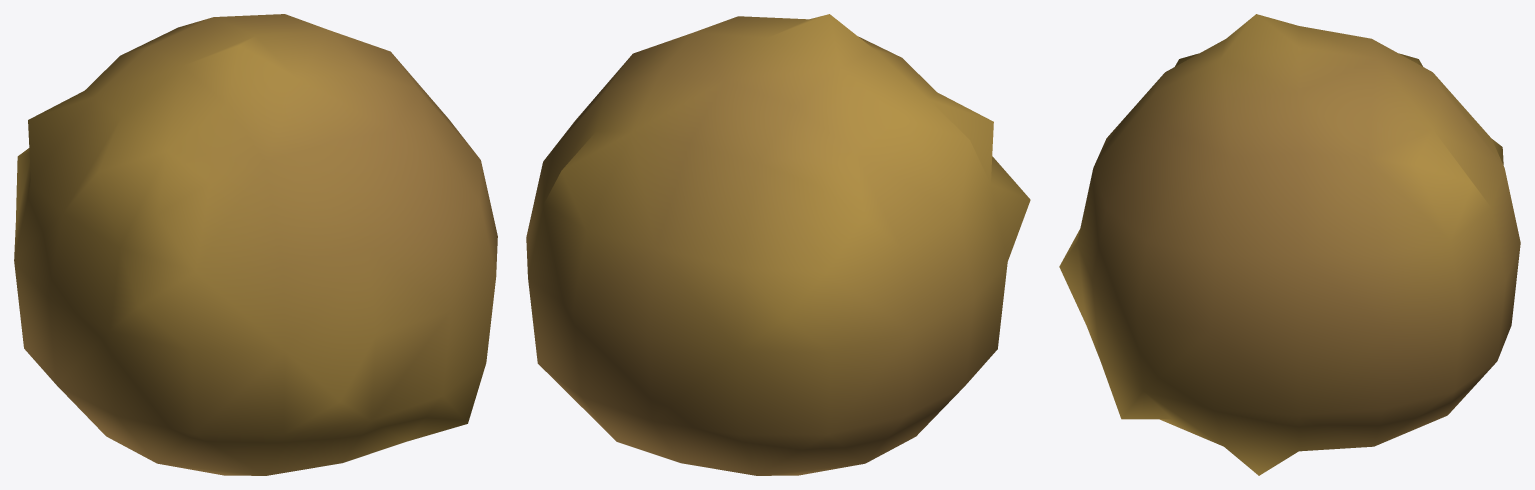
The model's file is microscopic-bacteria-round-bacterium_v4.glb.
3 views of the same model, side by side, from view 1: azimuth 30°, elevation 25°; view 2: azimuth 150°, elevation 25°; view 3: azimuth 270°, elevation 25° (orthographic). The views are drawn at different scales.
Visible parts, largest first — view 1: Round Bacterium_v4; view 2: Round Bacterium_v4; view 3: Round Bacterium_v4.
Boxes of the visible parts, left/top/right/bottom form: Round Bacterium_v4: left=14, top=14, right=497, bottom=475; Round Bacterium_v4: left=526, top=14, right=1030, bottom=475; Round Bacterium_v4: left=1059, top=14, right=1520, bottom=475.
Size of the model in its own units: 0.0961 by 0.0931 by 0.1.
